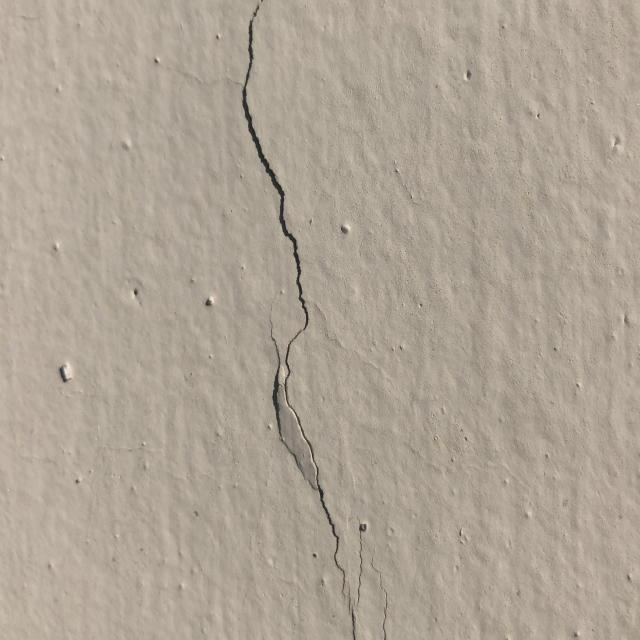SurfaceCrack: (195, 0, 388, 639)
